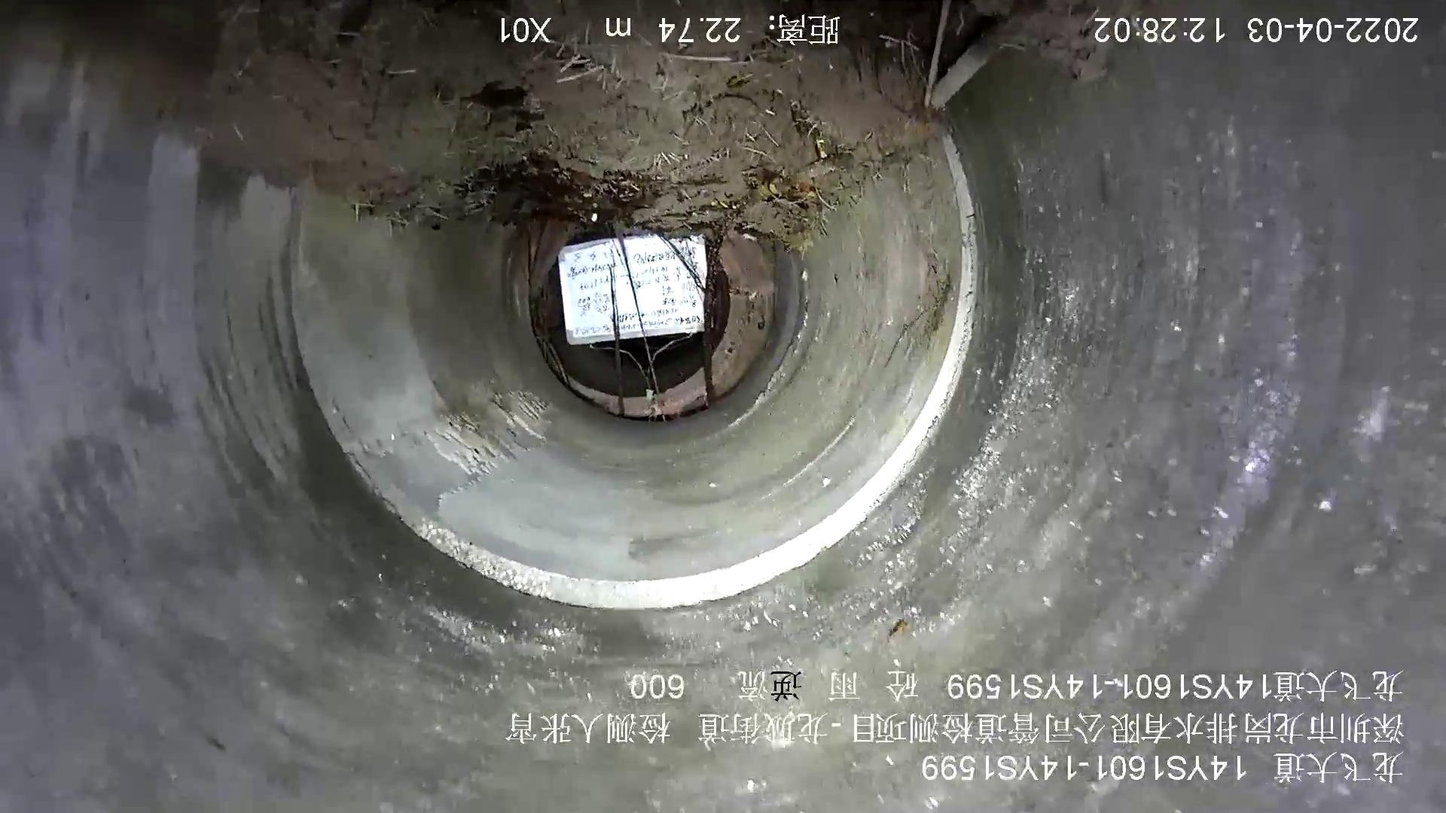CJ: (199, 1, 928, 251)
CKTJ: (288, 140, 977, 609)
PL: (413, 393, 572, 480)
